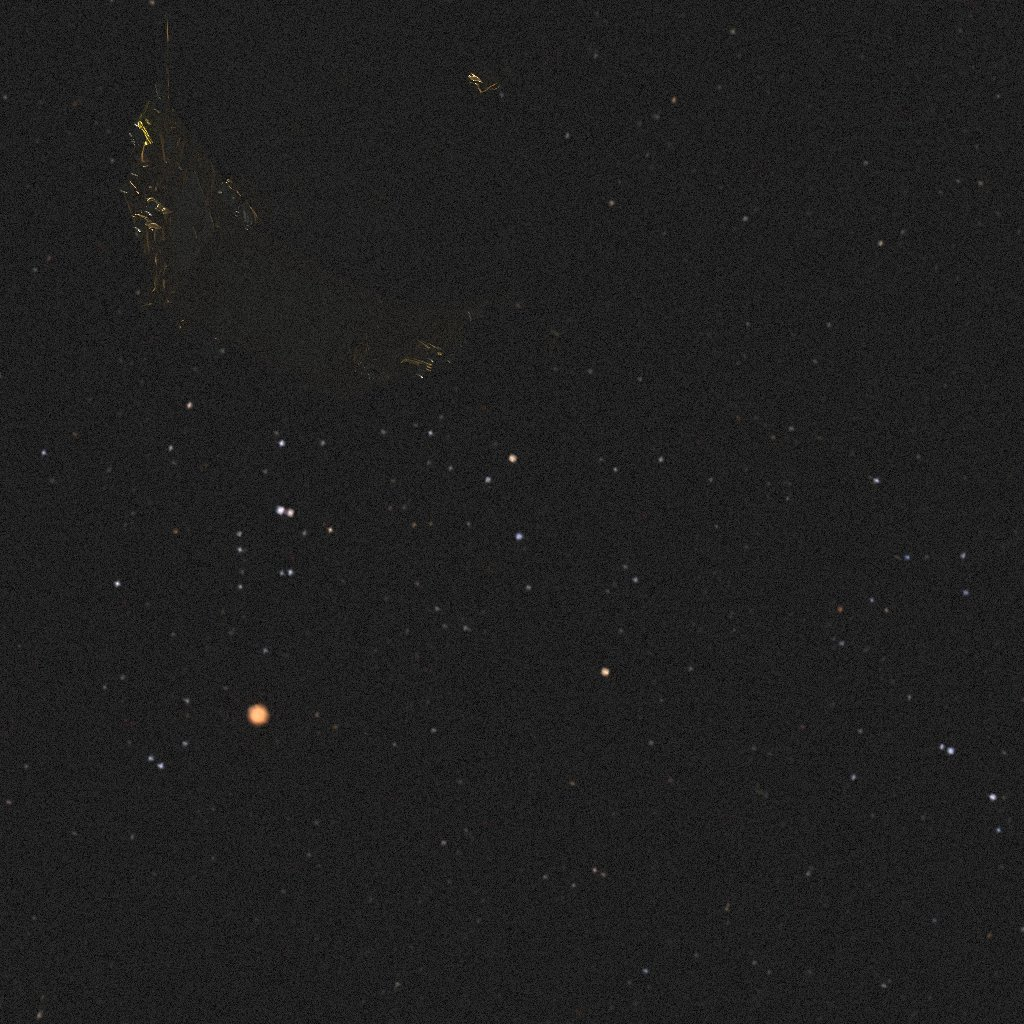lisa_pathfinder: (120, 0, 567, 403)
